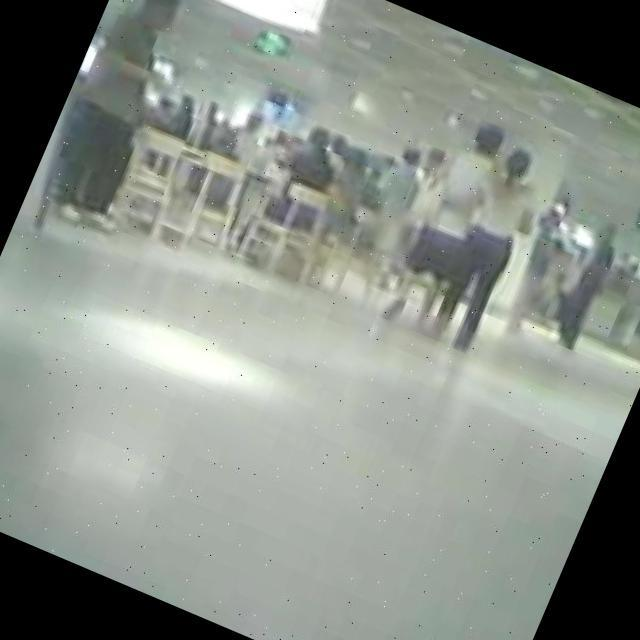person: (29, 0, 211, 239), (378, 112, 522, 340), (417, 138, 558, 356), (494, 190, 584, 336), (347, 138, 437, 272), (542, 218, 628, 356), (268, 124, 350, 226), (314, 142, 378, 234), (621, 264, 640, 352)
